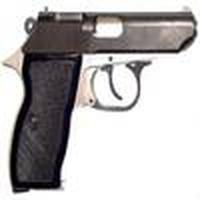gun: (3, 4, 196, 191)
